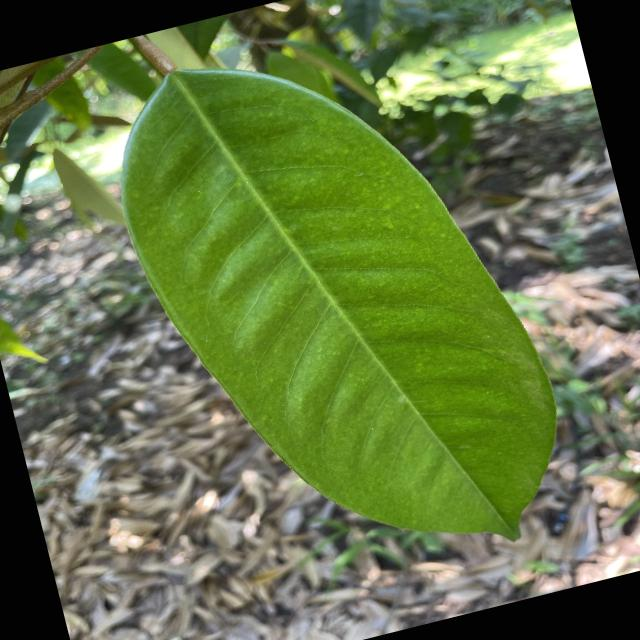No Disease: (85, 0, 595, 626)
